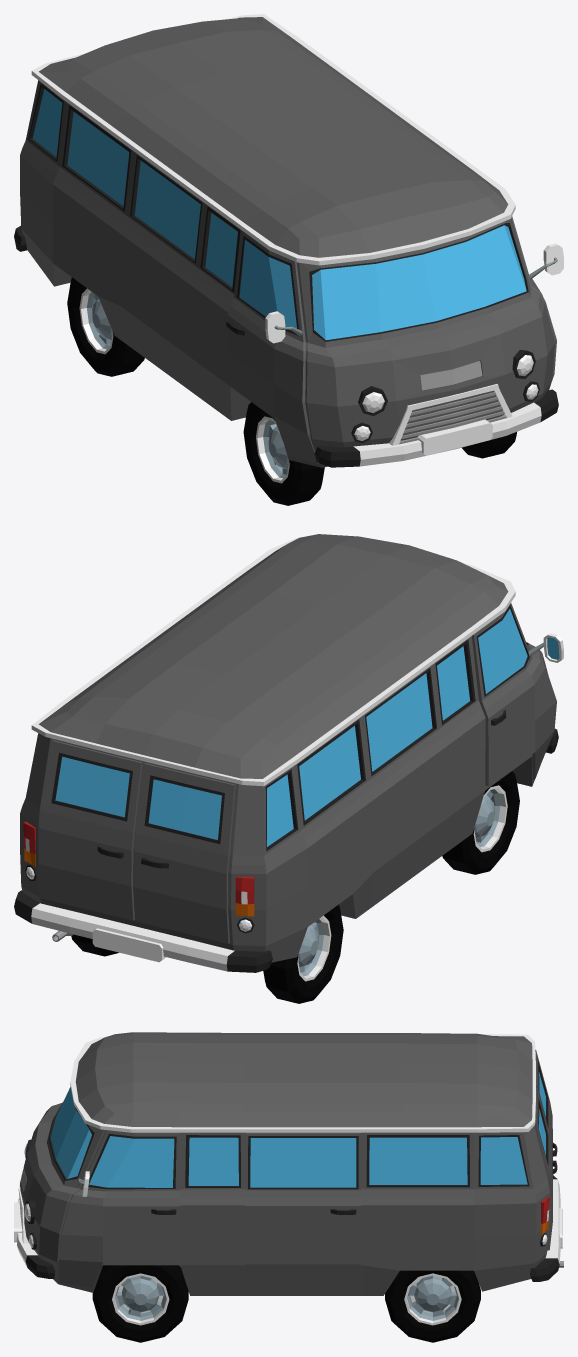
File: van_1_black.fbx
The picture shows the model from 3 angles, top to bottom: view 1: azimuth 30°, elevation 25°; view 2: azimuth 150°, elevation 25°; view 3: azimuth 270°, elevation 25°; orthographic projection. The views are drawn at different scales.
Visible parts, largest first — view 1: uaz_452, Front_Right_Wheel, Rear_Right_Wheel, Front_Left_Wheel; view 2: uaz_452, Rear_Right_Wheel, Front_Right_Wheel; view 3: uaz_452, Front_Left_Wheel, Rear_Left_Wheel.
Part boxes in pixels (x1,y1,x2,y2): uaz_452: (14,14,563,467); Front_Right_Wheel: (243,402,324,505); Rear_Right_Wheel: (67,277,144,376); Front_Left_Wheel: (462,432,516,458); uaz_452: (14,534,563,972); Rear_Right_Wheel: (263,904,343,1003); Front_Right_Wheel: (442,771,519,874); uaz_452: (14,1032,563,1295); Front_Left_Wheel: (92,1265,188,1342); Rear_Left_Wheel: (385,1270,480,1342).
Bounding box in the file's own units: 230 × 212 × 446.
